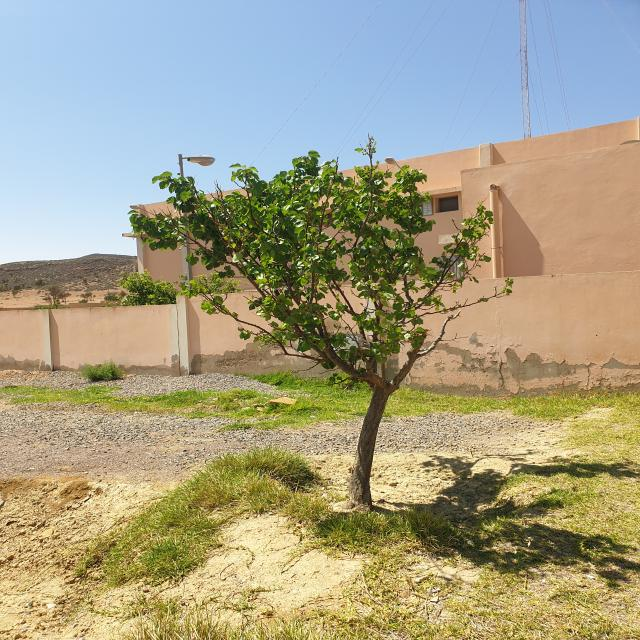Tree: (129, 137, 512, 511)
